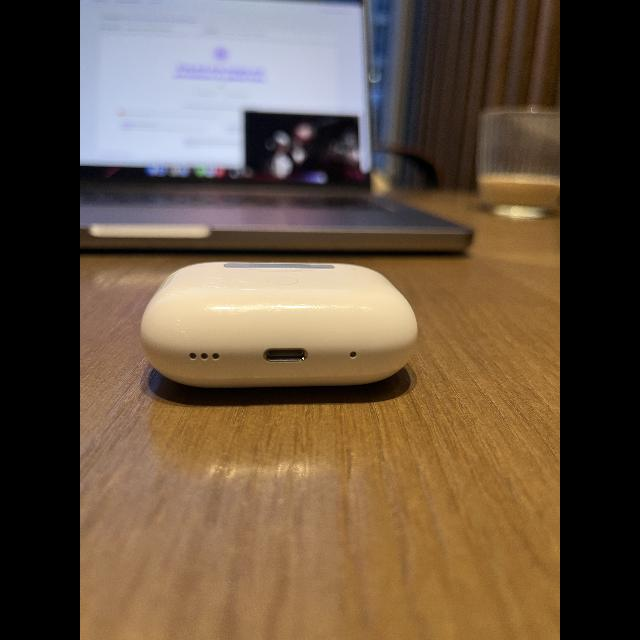AirPods Pro: (140, 256, 428, 406)
